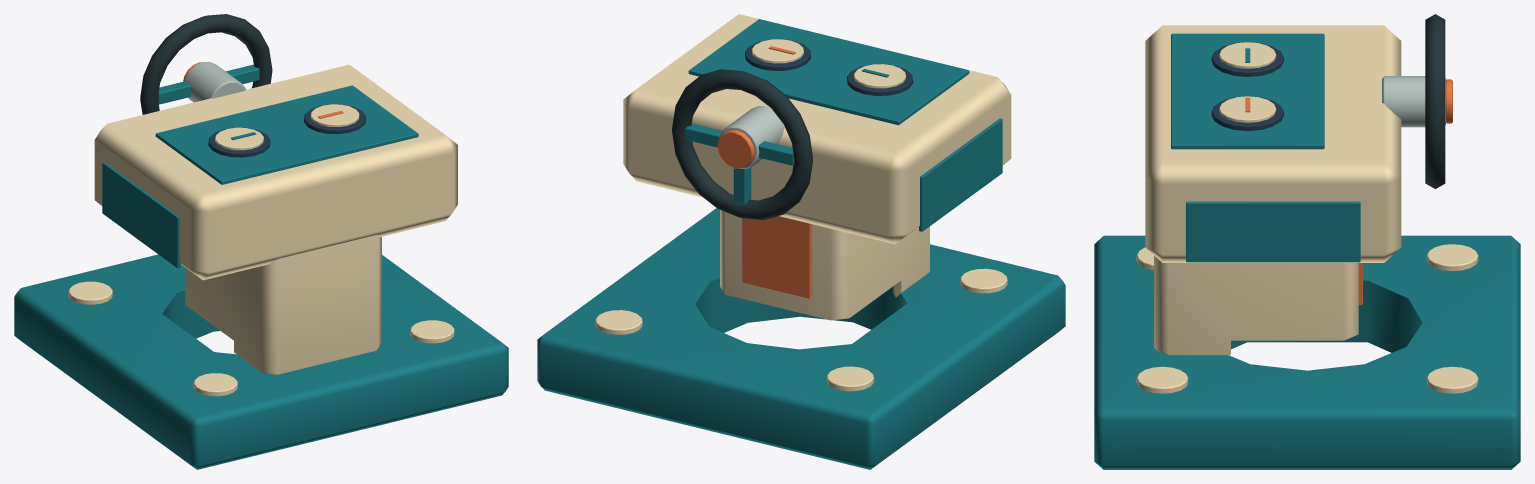
The model's file is helm-lod-1.glb.
3 views of the same model, side by side, from view 1: azimuth 30°, elevation 25°; view 2: azimuth 150°, elevation 25°; view 3: azimuth 270°, elevation 25° (orthographic). The views are drawn at different scales.
Visible parts, largest first — view 1: helm_lod_1; view 2: helm_lod_1; view 3: helm_lod_1.
Boxes of the visible parts, left/top/right/bottom form: helm_lod_1: left=14, top=14, right=508, bottom=469; helm_lod_1: left=537, top=14, right=1065, bottom=469; helm_lod_1: left=1094, top=14, right=1520, bottom=469.
Size of the model in its own units: 1 by 0.937 by 1.
